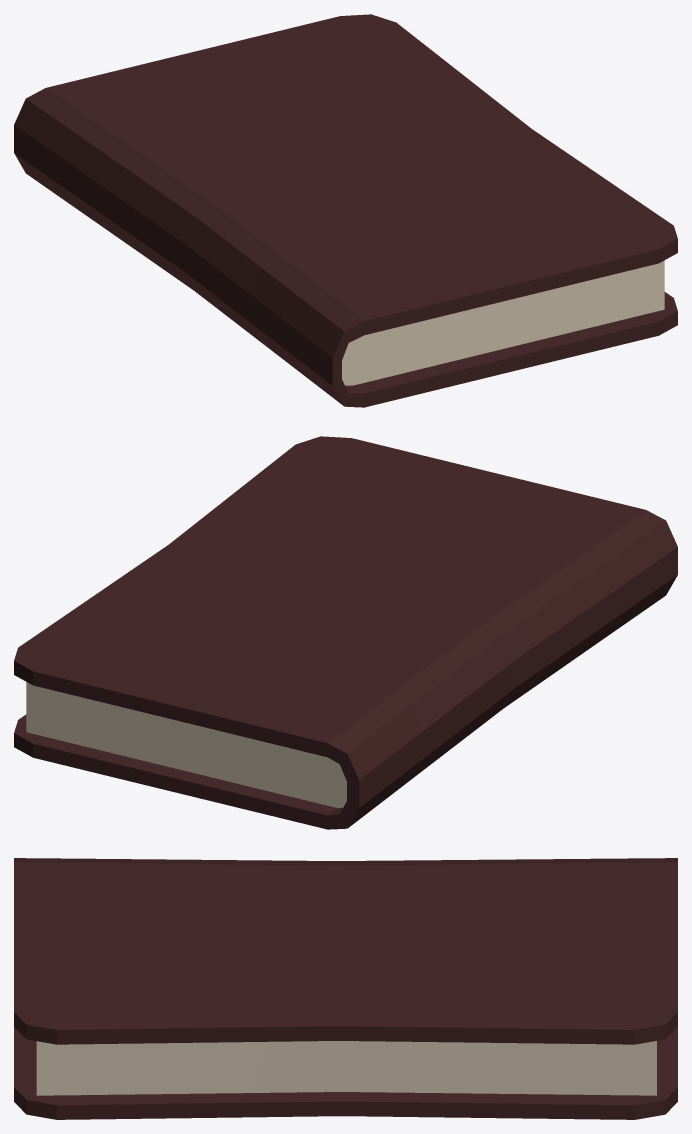
File: BookClosed_2.fbx
The picture shows the model from 3 angles, top to bottom: view 1: azimuth 30°, elevation 25°; view 2: azimuth 150°, elevation 25°; view 3: azimuth 270°, elevation 25°; orthographic projection. The views are drawn at different scales.
Parts seen in each view (by area): view 1: BookClosed_2; view 2: BookClosed_2; view 3: BookClosed_2.
Boxes of the visible parts, left/top/right/bottom form: BookClosed_2: left=14, top=14, right=677, bottom=407; BookClosed_2: left=14, top=436, right=677, bottom=829; BookClosed_2: left=14, top=858, right=677, bottom=1119.
Size of the model in its own units: 52.67 by 12.02 by 80.37.
